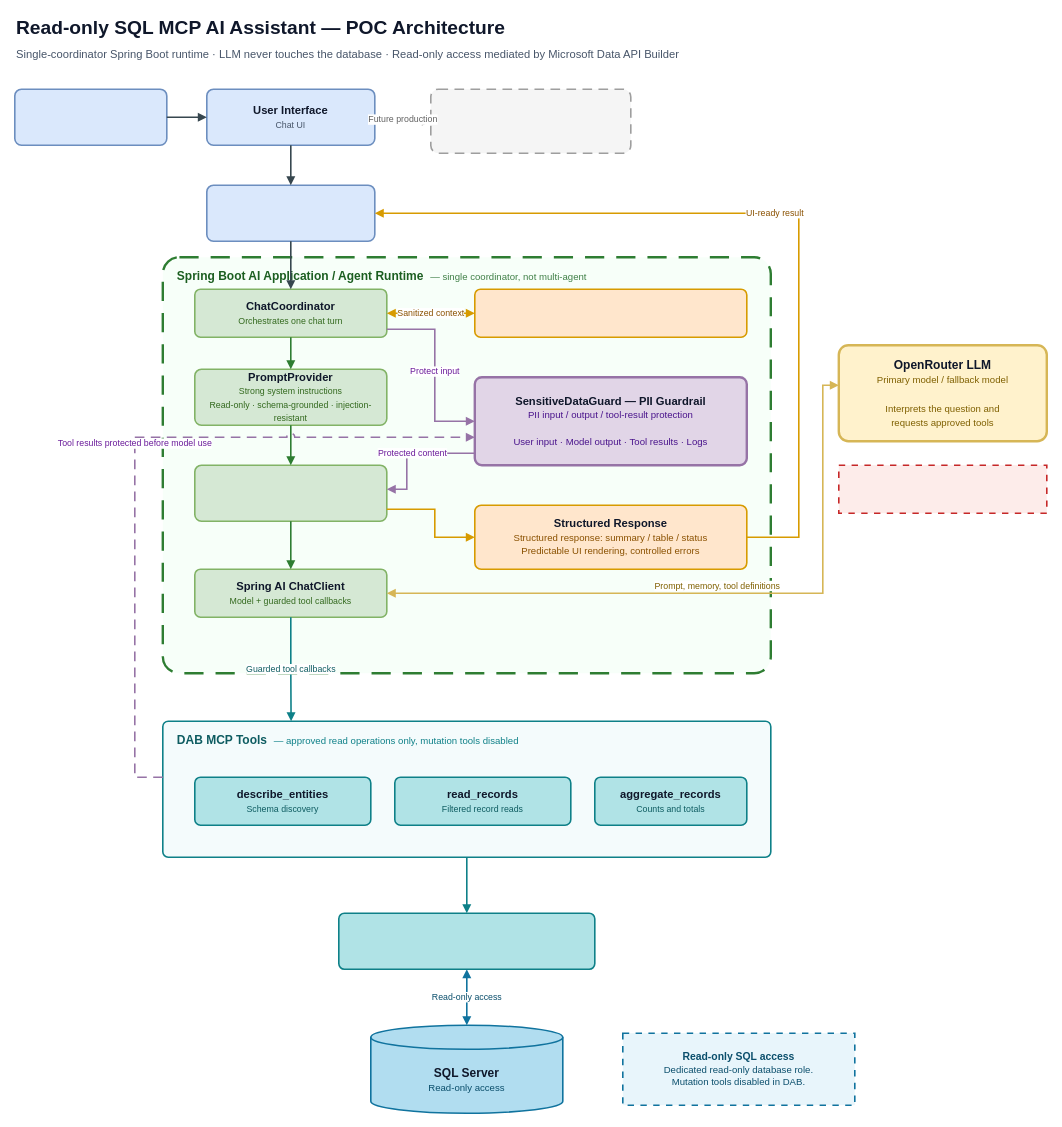
Image size: 1062x1127. Some labels were removed from this diagram. The centre of each missing label's shape, as x and y in pixels:
API / ChatController Validates requests, returns results: the point at 290,213
Authentication / OIDC Future production capability Not in current POC: the point at 530,121
Business User Asks questions in natural language: the point at 90,117
ChatModelRunner Primary / fallback model policy Maps output to response contract: the point at 290,493
LLM does not directly access SQL Server: the point at 942,489
Microsoft Data API Builder Configured entities and permitted operations: the point at 466,941
Sanitized Conversation Memory Bounded, protected follow-up context: the point at 610,313
